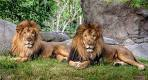lion: (71, 19, 143, 76), (13, 22, 73, 62)
